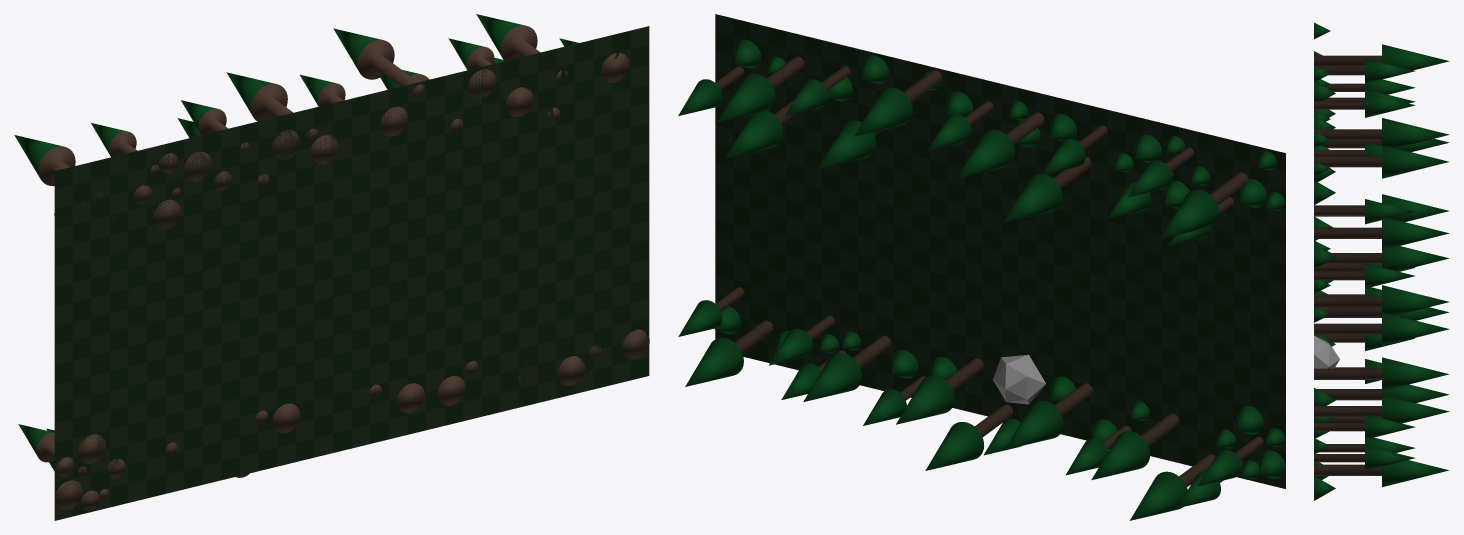
The model's file is forest20.dae.
The picture shows the model from 3 angles, left to right: view 1: azimuth 30°, elevation 25°; view 2: azimuth 150°, elevation 25°; view 3: azimuth 270°, elevation 25°; orthographic projection. The views are drawn at different scales.
Visible parts, largest first — view 1: Plane.046, Cone.2791, Cone.2783, Cone.2792, Cone.2770, Cone.2763, Cone.2760, Cone.2774, Cone.2811, Cone.2789; view 2: Plane.046, Cone.2784, Cone.2781, Cone.2792, Cone.2791, Cone.2783, Cone.2810, Cone.2798, Cone.2802, Cone.2752, Cone.2770, Cone.2780 (+17 smaller); view 3: Cone.2792, Cone.2781, Cone.2784, Cone.2791, Cone.2810, Cone.2798, Cone.2783, Cone.2802, Cone.2770, Cone.2761, Cone.2752, Cone.2809 (+24 smaller).
Part boxes in pixels (x1=…): Plane.046: x1=54, y1=26, x2=649, y2=520; Cone.2791: x1=333, y1=28, x2=424, y2=97; Cone.2783: x1=226, y1=72, x2=317, y2=141; Cone.2792: x1=476, y1=14, x2=567, y2=83; Cone.2770: x1=14, y1=135, x2=105, y2=202; Cone.2763: x1=181, y1=100, x2=249, y2=151; Cone.2760: x1=91, y1=123, x2=159, y2=174; Cone.2774: x1=18, y1=424, x2=86, y2=475; Cone.2811: x1=448, y1=38, x2=494, y2=70; Cone.2789: x1=300, y1=74, x2=345, y2=106; Plane.046: x1=715, y1=14, x2=1285, y2=488; Cone.2784: x1=896, y1=358, x2=983, y2=424; Cone.2781: x1=1005, y1=383, x2=1092, y2=449; Cone.2792: x1=717, y1=56, x2=804, y2=122; Cone.2791: x1=854, y1=70, x2=941, y2=136; Cone.2783: x1=956, y1=112, x2=1044, y2=178; Cone.2810: x1=1091, y1=413, x2=1179, y2=480; Cone.2798: x1=803, y1=335, x2=891, y2=401; Cone.2802: x1=685, y1=320, x2=773, y2=386; Cone.2752: x1=925, y1=404, x2=1013, y2=470; Cone.2770: x1=1160, y1=172, x2=1248, y2=238; Cone.2780: x1=1003, y1=156, x2=1091, y2=222; Cone.2792: x1=1314, y1=216, x2=1449, y2=250; Cone.2781: x1=1314, y1=312, x2=1449, y2=345; Cone.2784: x1=1314, y1=357, x2=1448, y2=390; Cone.2791: x1=1314, y1=145, x2=1449, y2=178; Cone.2810: x1=1314, y1=285, x2=1448, y2=315; Cone.2798: x1=1314, y1=394, x2=1449, y2=423; Cone.2783: x1=1314, y1=118, x2=1449, y2=148; Cone.2802: x1=1314, y1=460, x2=1448, y2=487; Cone.2770: x1=1314, y1=44, x2=1449, y2=70; Cone.2761: x1=1325, y1=246, x2=1449, y2=271; Cone.2752: x1=1317, y1=384, x2=1449, y2=402; Cone.2809: x1=1314, y1=263, x2=1414, y2=288.
Bounding box in the file's own units: 64.07 × 16 × 37.96.
